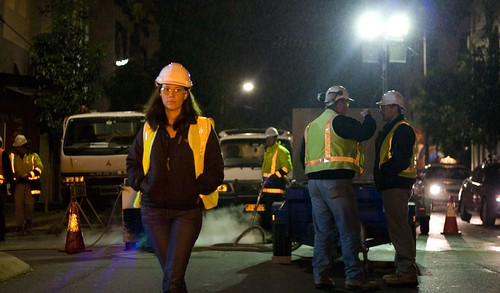person hardhat: (127, 55, 222, 293), (307, 83, 377, 288), (372, 88, 430, 287), (255, 121, 293, 245), (1, 132, 49, 228)
